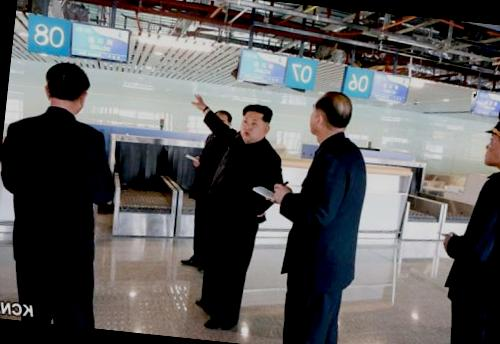no_helmet: (38, 57, 97, 119), (302, 86, 358, 146), (235, 98, 277, 146), (209, 106, 233, 134)
